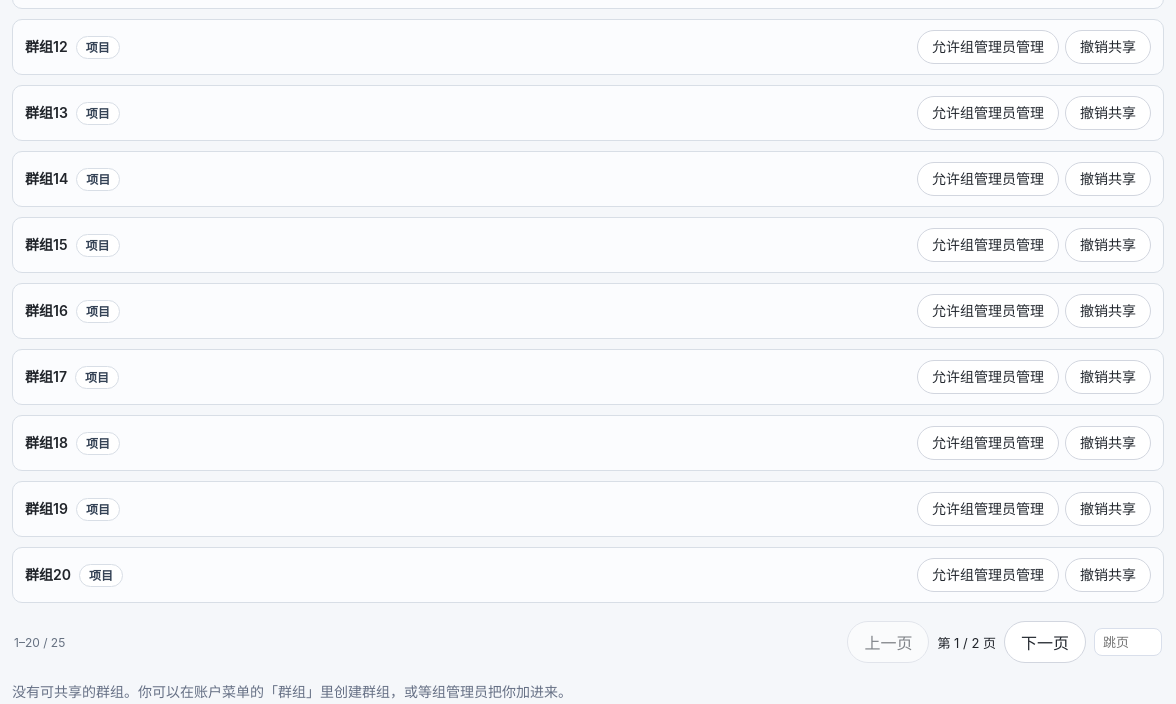
Test: 已共享的群组超过一页时分页展示
(page scrolled)
Expected: the text "群组20" is shown, [25,565,71,586]
Expected: the text "群组21" is not shown
Click the button "下一页": (1045, 642) [1004,621,1086,663]
(page scrolled)
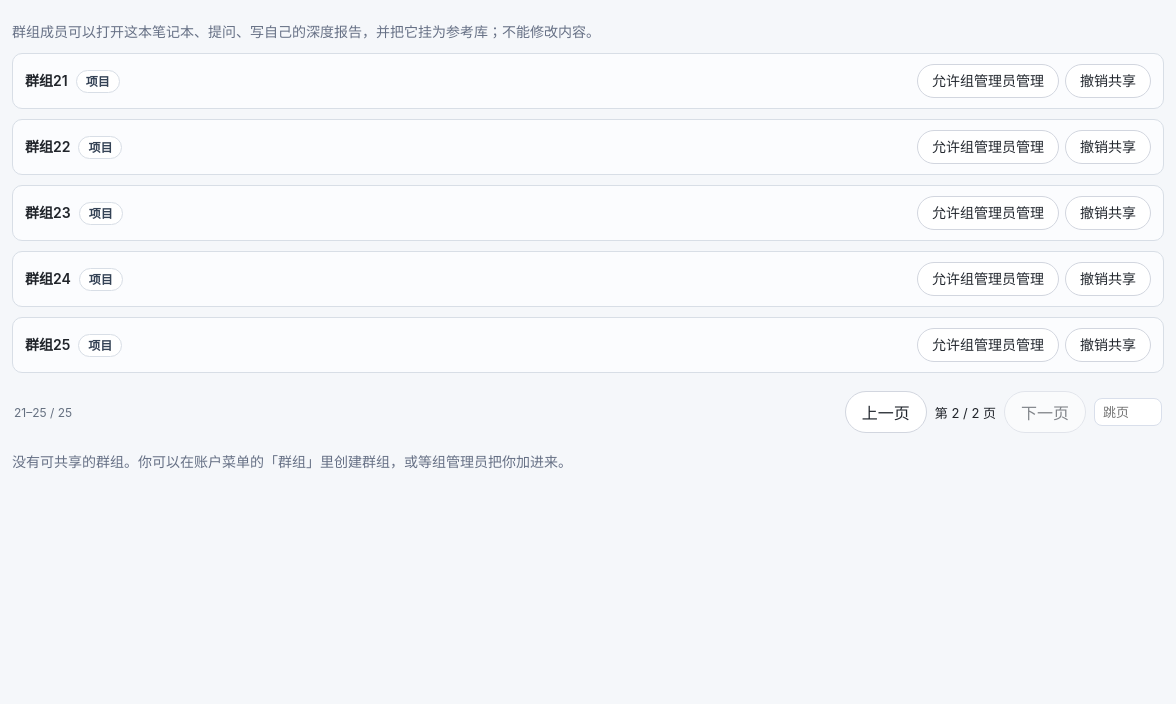
Now the text "群组25" is shown, box [25,335,70,356]
